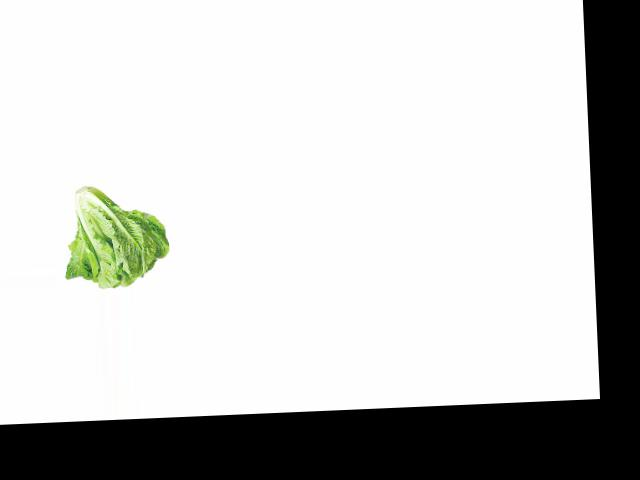lettuce: (63, 177, 172, 290)
